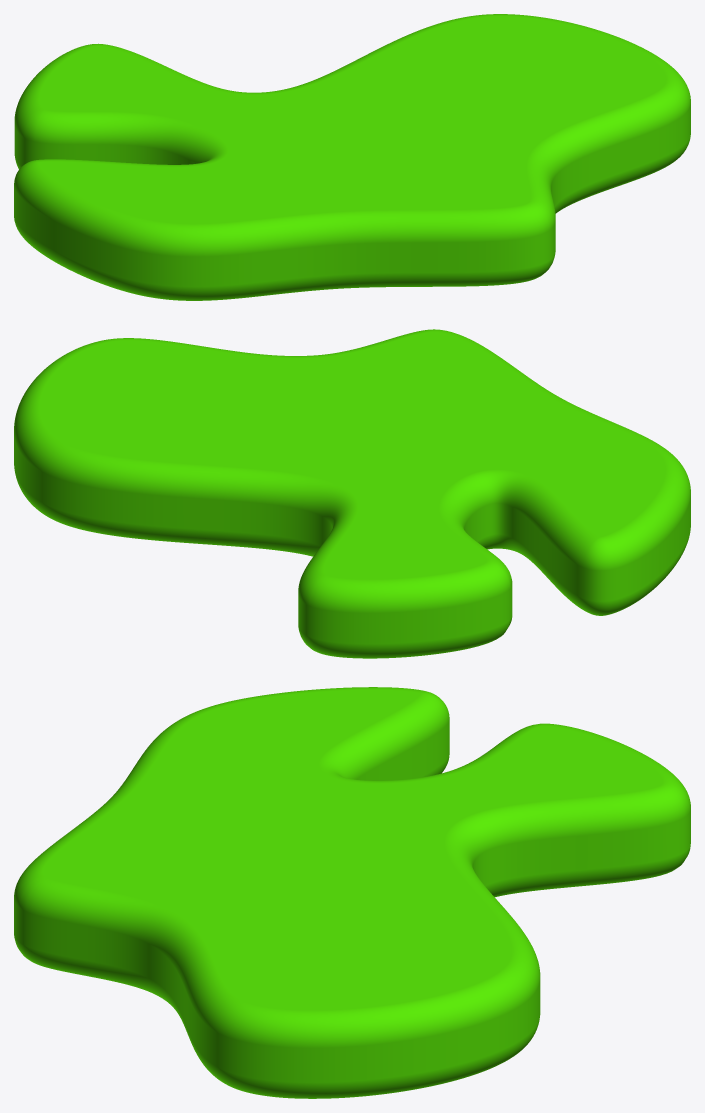
File: POISON 1.fbx
3 views of the same model, one above another, from view 1: azimuth 30°, elevation 25°; view 2: azimuth 150°, elevation 25°; view 3: azimuth 270°, elevation 25° (orthographic). The views are drawn at different scales.
Parts seen in each view (by area): view 1: nÆ°á»c 1; view 2: nÆ°á»c 1; view 3: nÆ°á»c 1.
Boxes of the visible parts, x1,y1,x2,y2 form: nÆ°á»c 1: [14, 14, 690, 300]; nÆ°á»c 1: [14, 329, 690, 658]; nÆ°á»c 1: [14, 687, 690, 1098].
Bounding box in the file's own units: 86.12 × 10 × 71.5.
